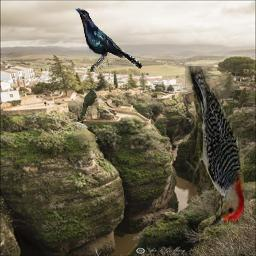Crow: (76, 8, 143, 72)
Cuckoo: (81, 88, 98, 116)
Woodpecker: (186, 67, 245, 228)
